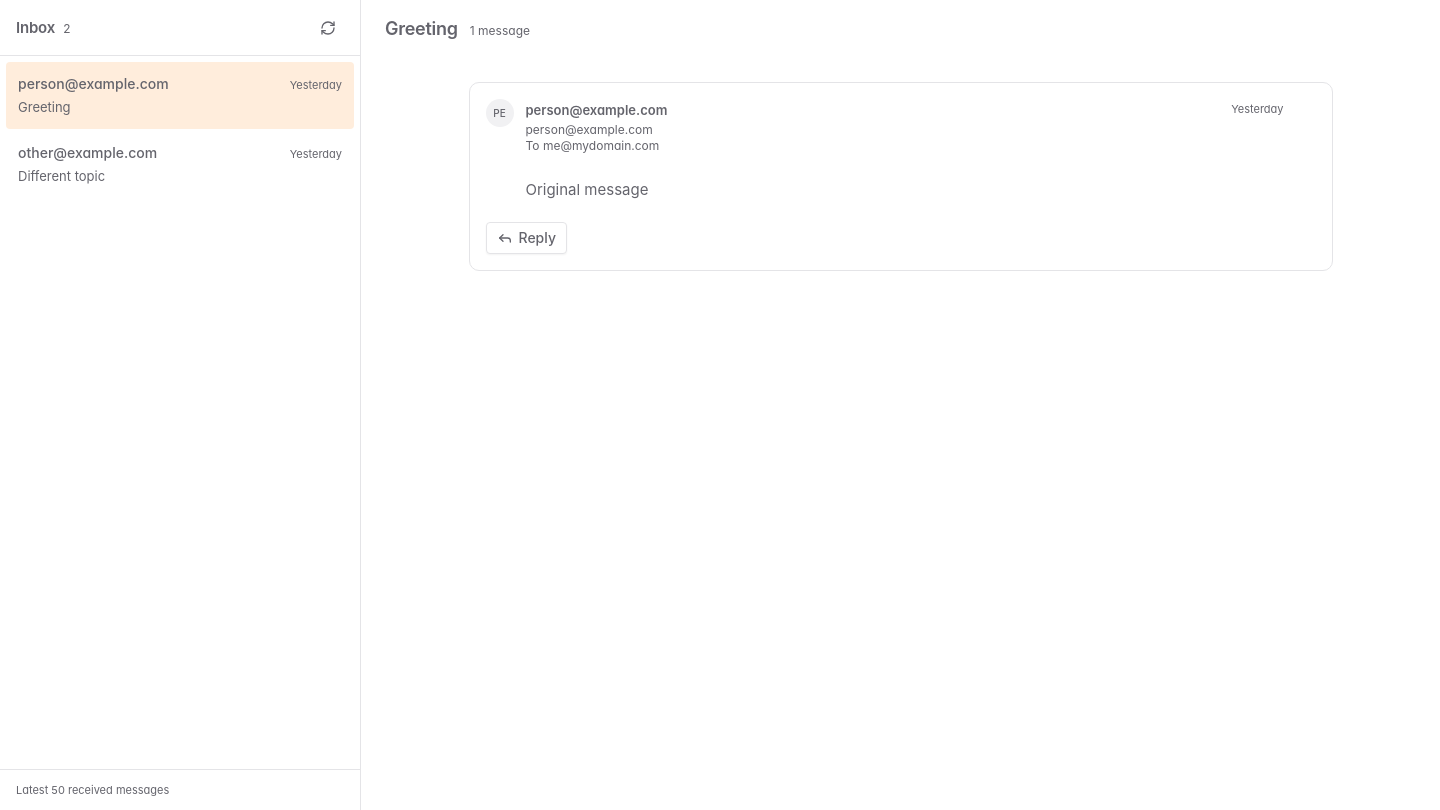
Test: does not carry a reply draft into an unrelated conversation
This screenshot has width=1440, height=810.
Check: the text "Original message" is shown, box [526,180,648,199]
Click the button "Reply" at (526, 238), box [486,222,567,254]
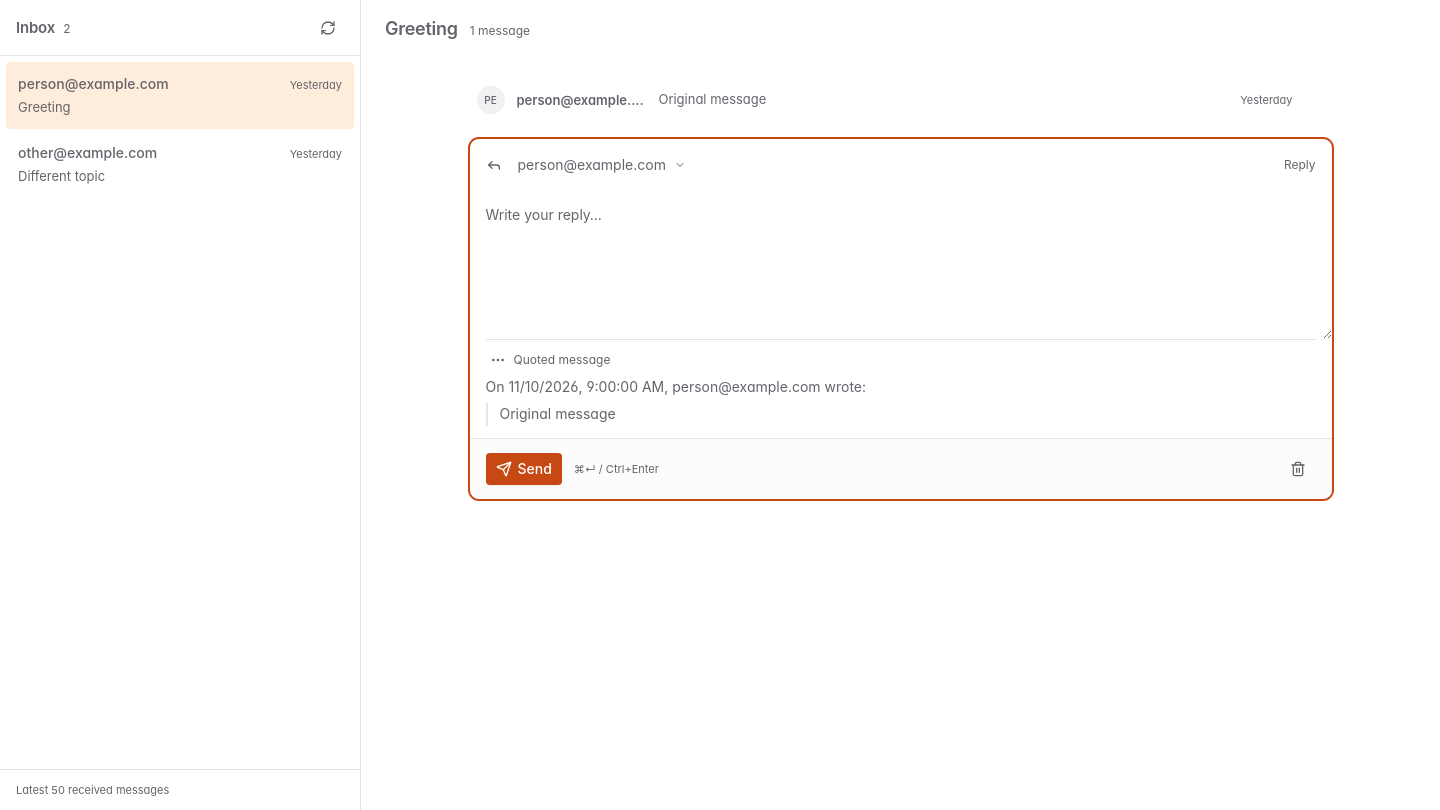
Type "Private draft" into the text box named "Message" at (900, 265), box [470,191,1332,339]
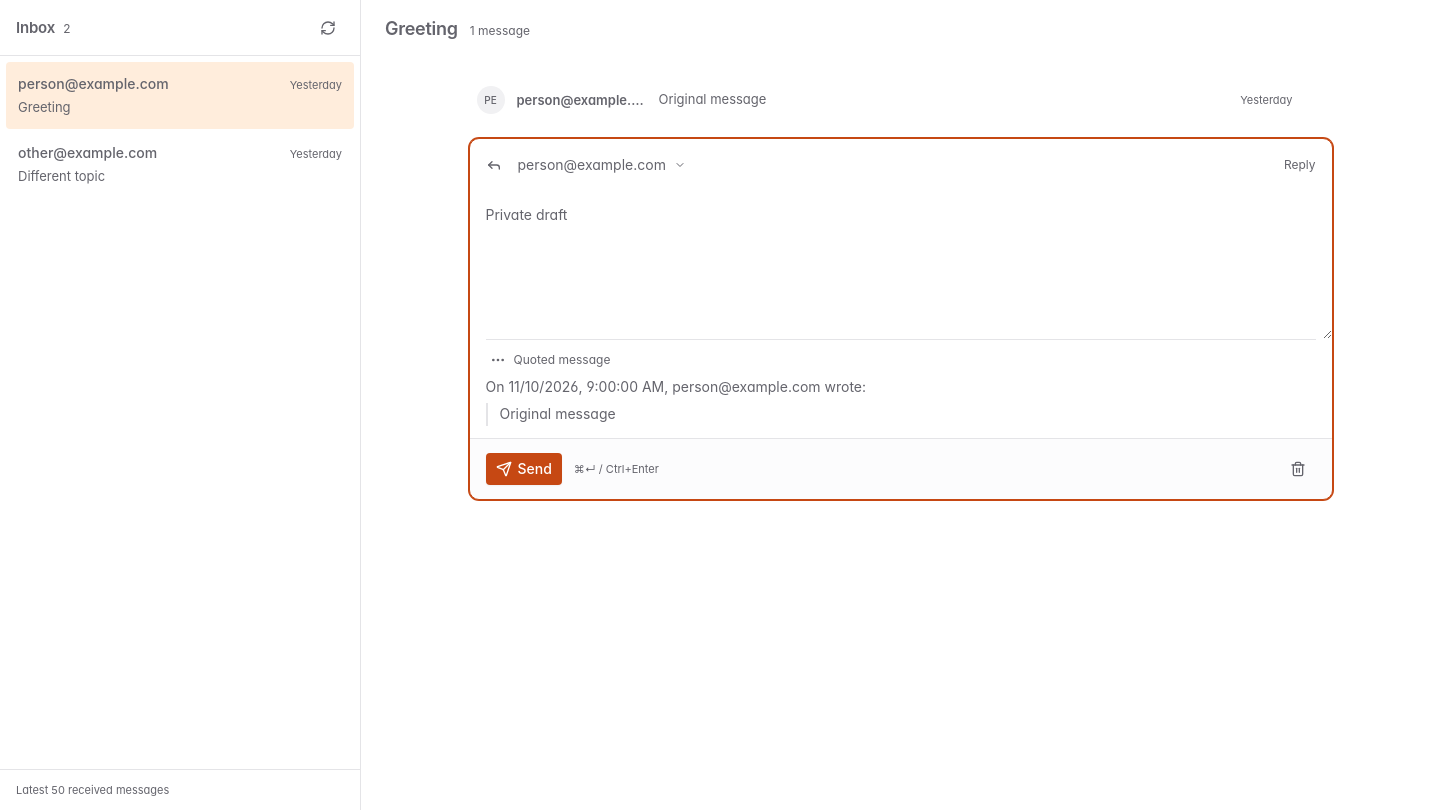
Click the button "other@example.com Yesterday Different topic" at (88, 152), box [6,131,354,198]
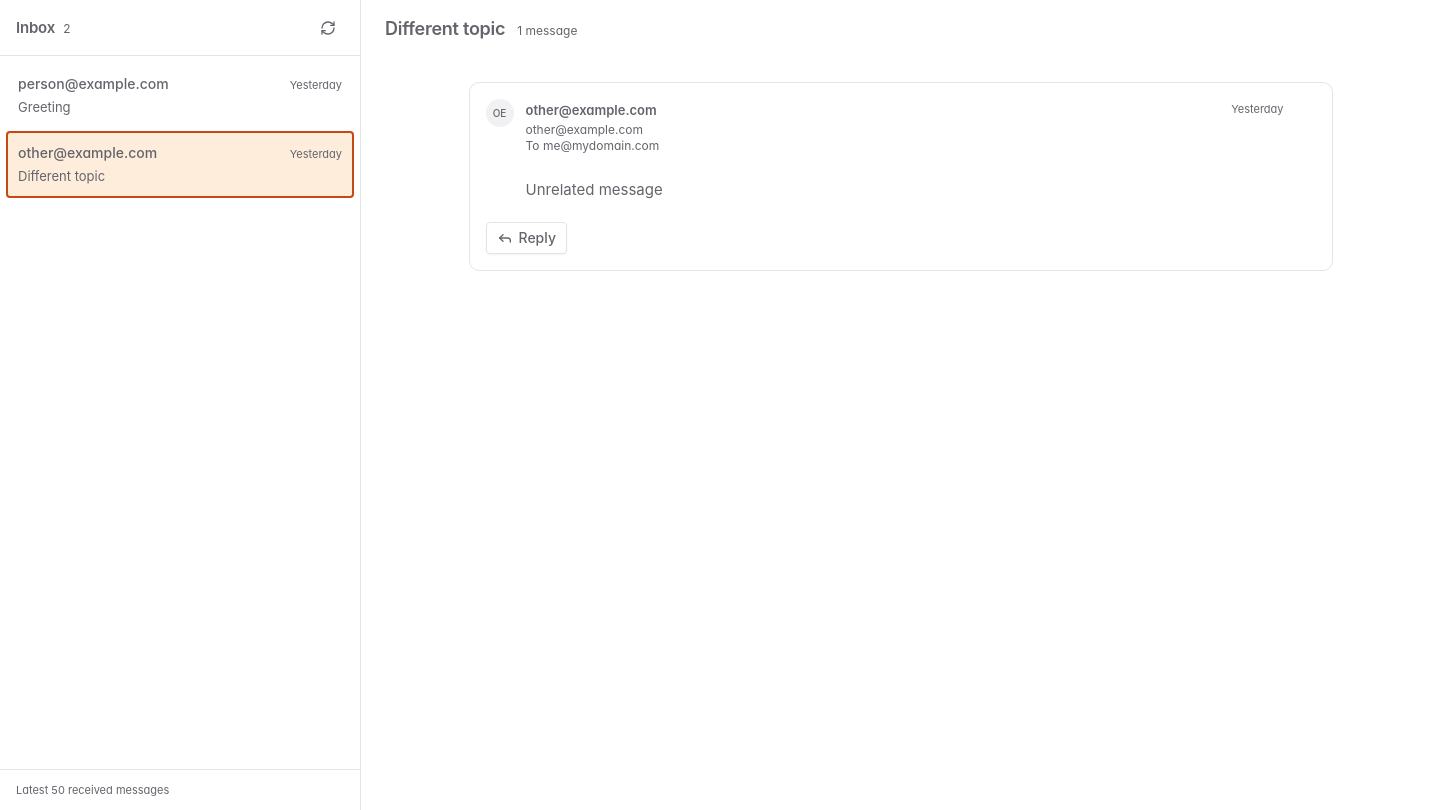
Check: the text "Unrelated message" is shown, box [526,180,663,199]
